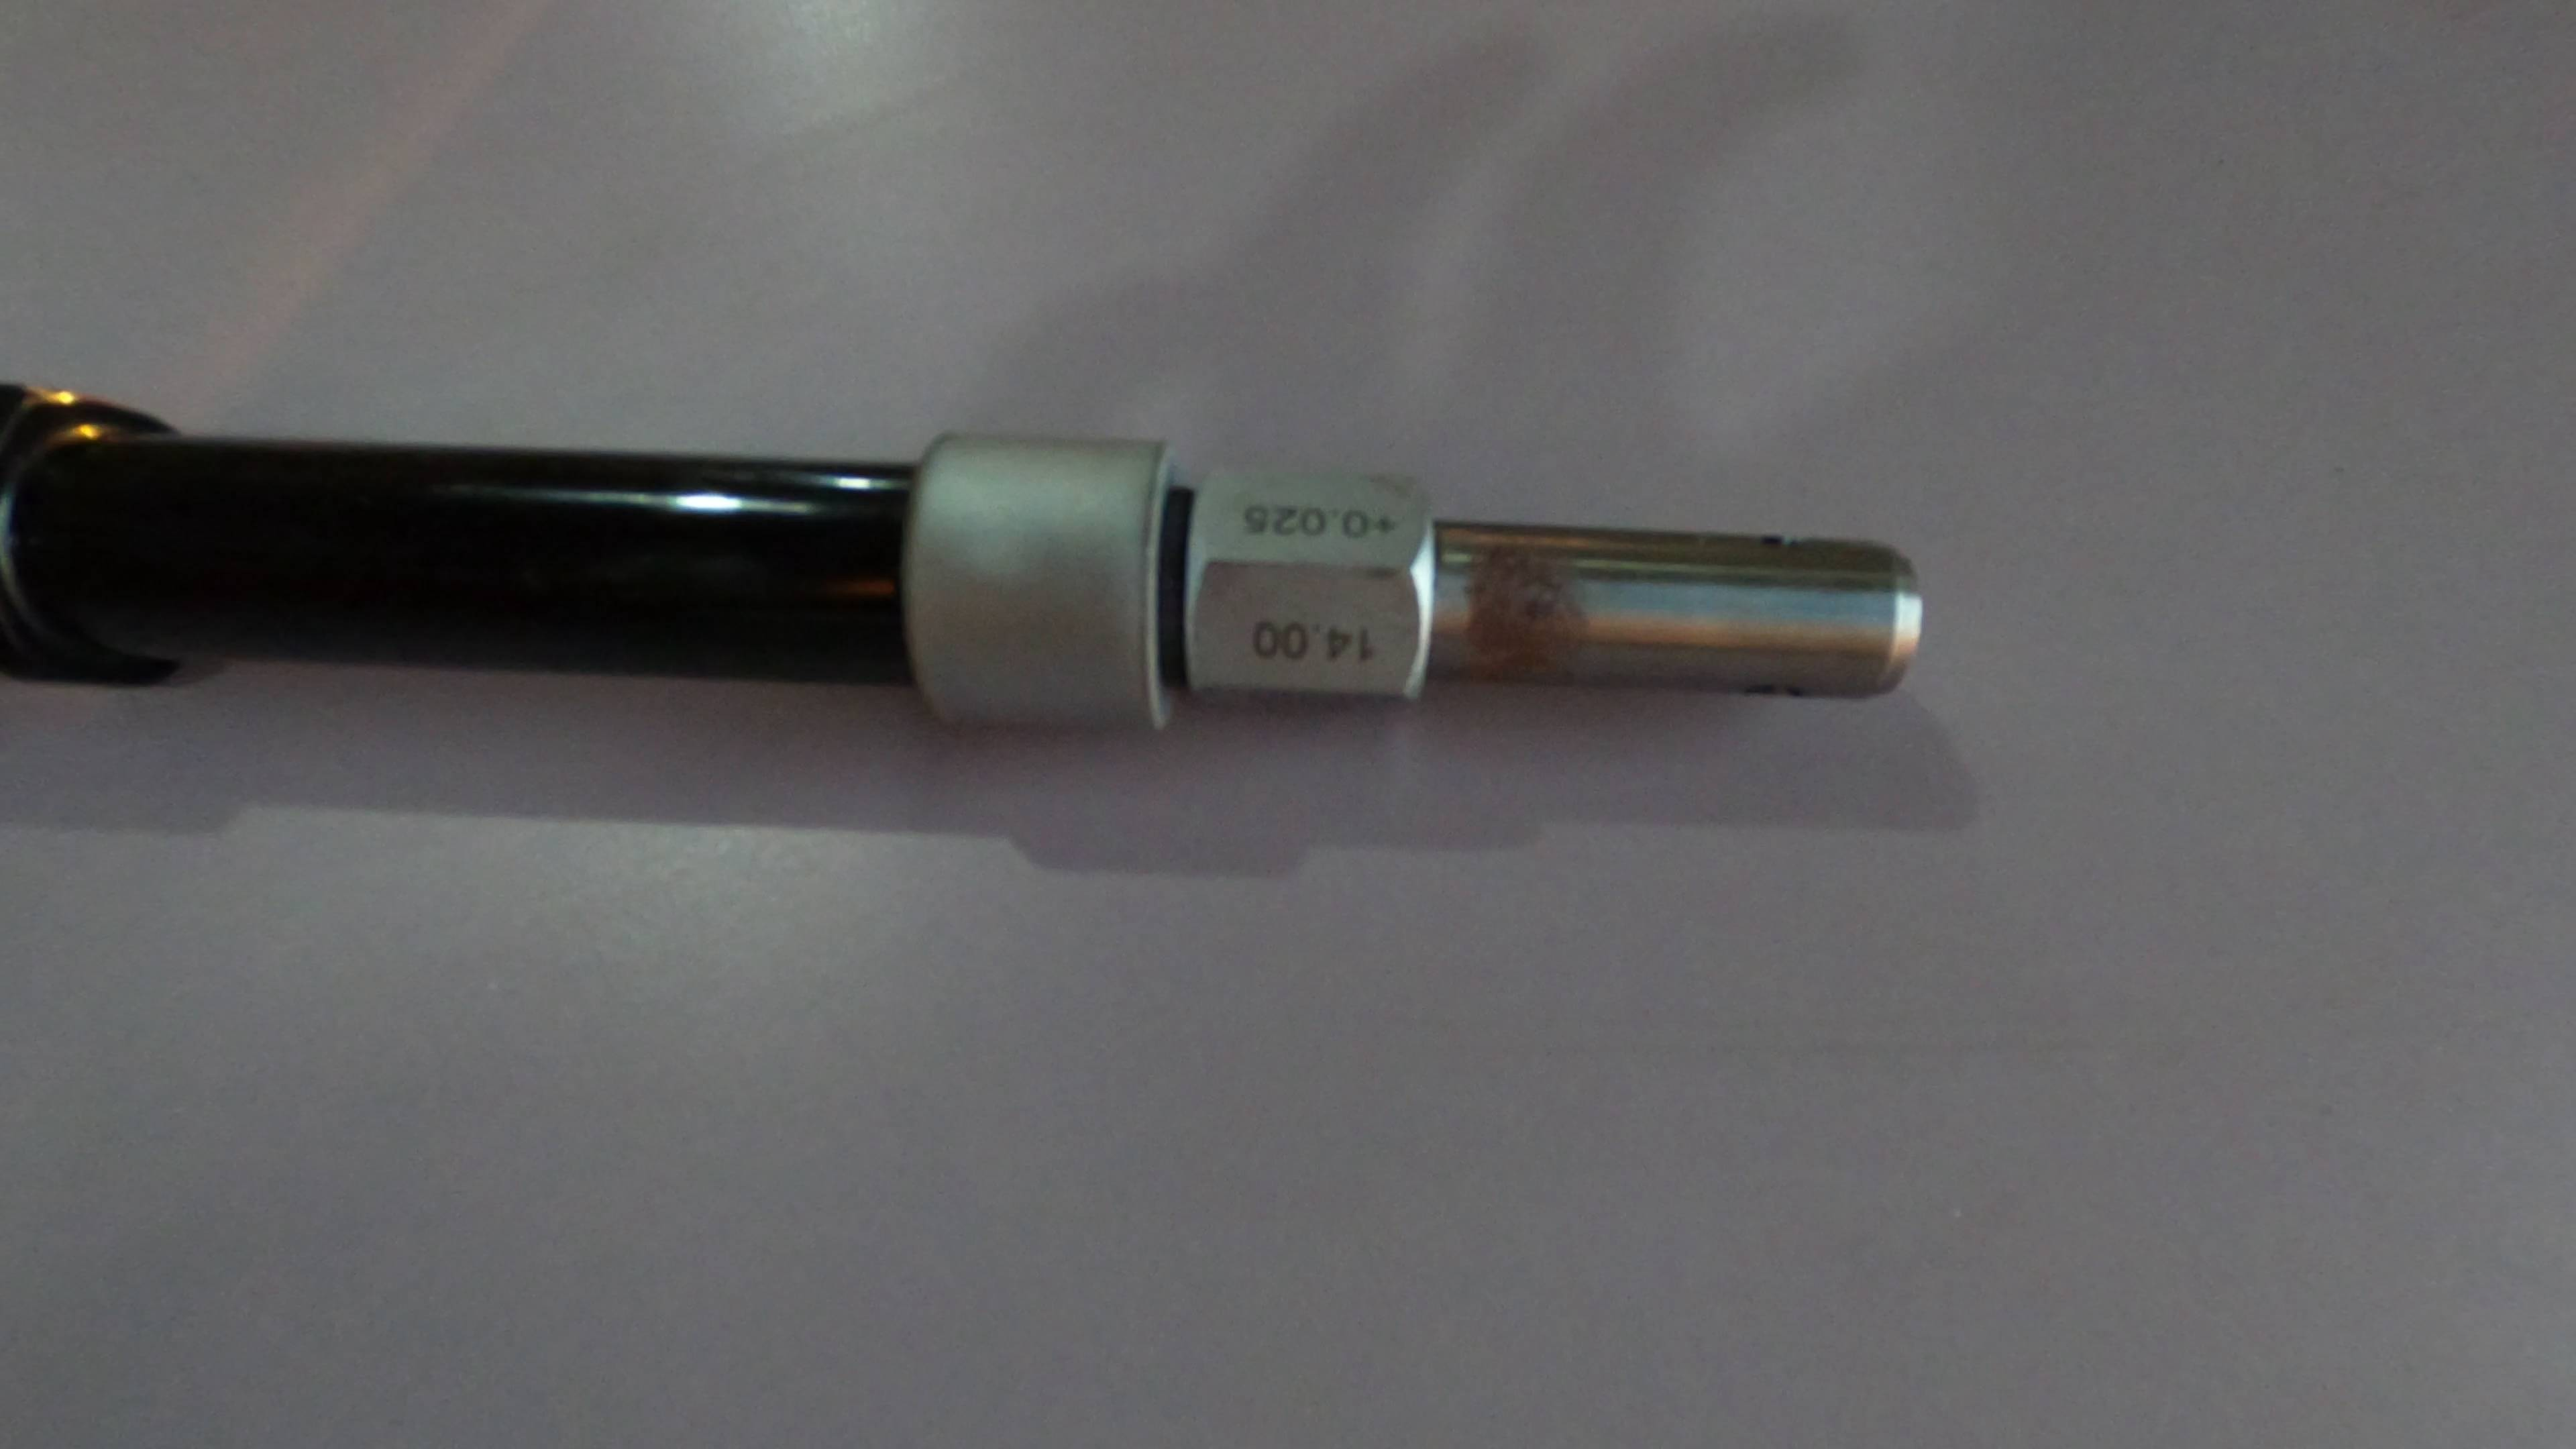air_gauge: (2, 370, 1934, 853)
